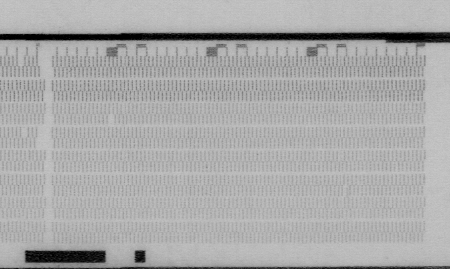Broken hole: (35, 54, 49, 79), (33, 126, 45, 149), (14, 54, 28, 69), (18, 127, 30, 140), (105, 114, 118, 126)
Oblique printing: (339, 184, 353, 199)
